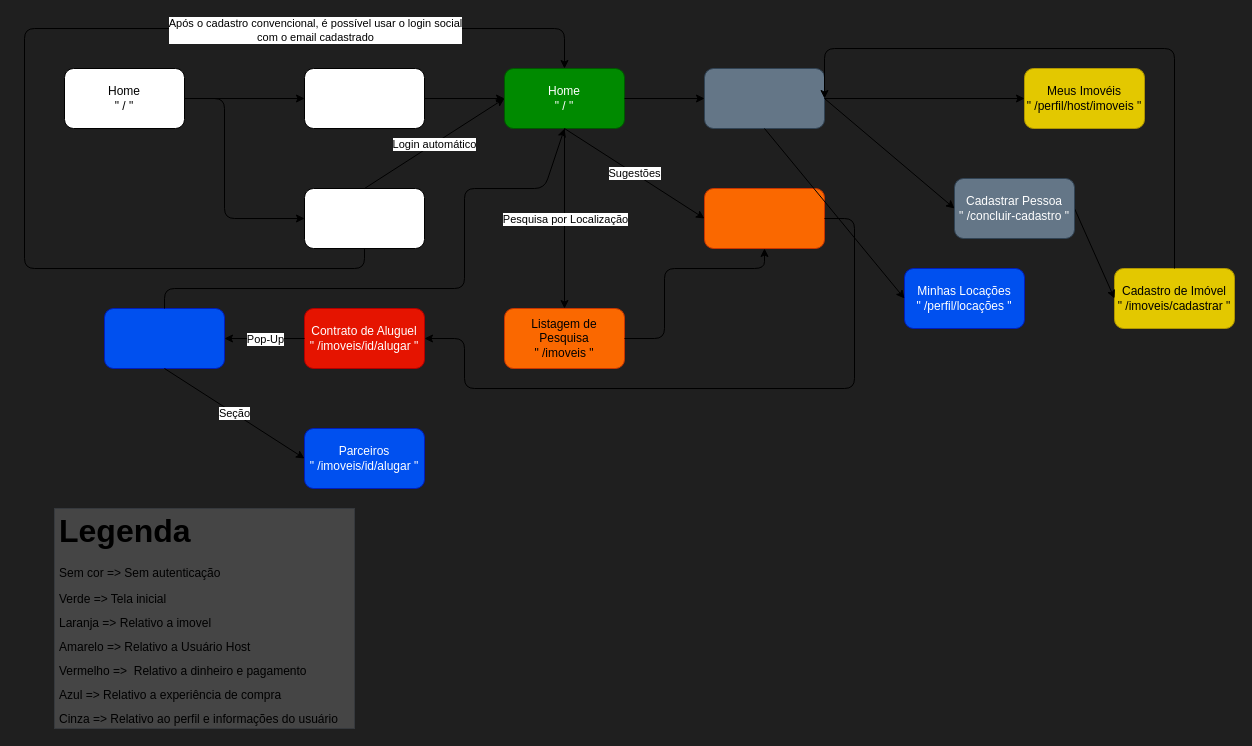
This 1252x746 diagram has some shape labels left out. The shapes that lost their labels are listed below. From the top down, each one's centre as x and y in pixels, then its label:
the point at 364,98: Login " /login "
the point at 764,98: Perfil " /perfil "
the point at 364,218: Cadastro de Usuário " /registro "
the point at 764,218: Detalhes do Imovél " /imoveis/id "
the point at 164,338: Sucesso " /imoveis/id/alugar "
